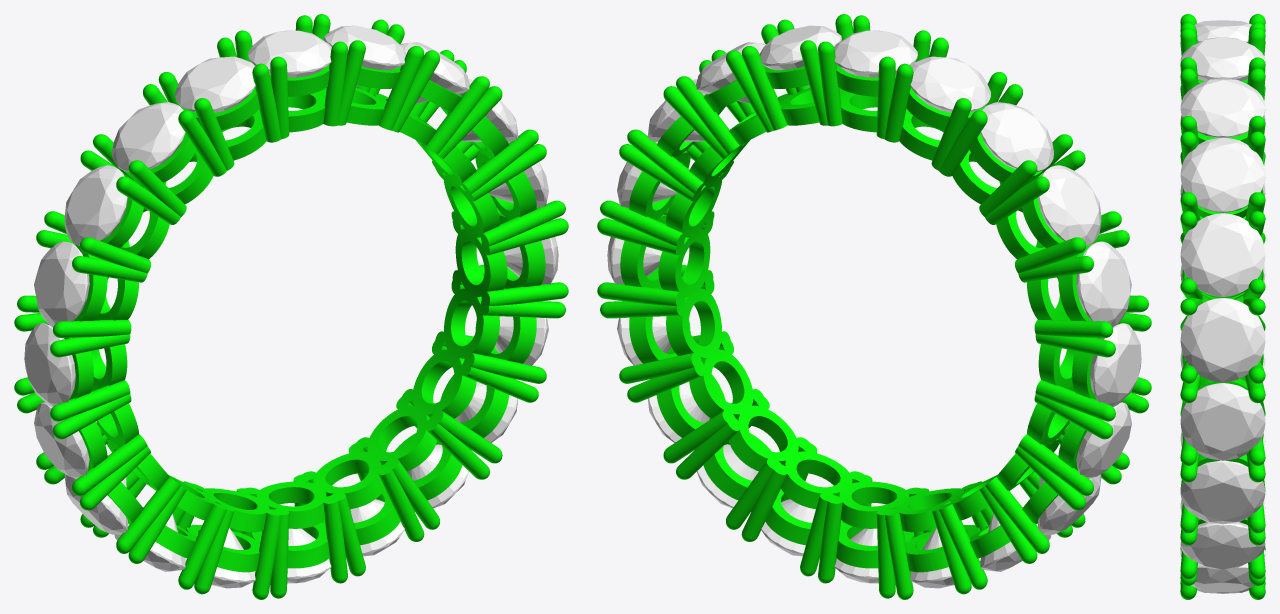
The model's file is eternity_3_1c01d76a29.glb.
The picture shows the model from 3 angles, left to right: view 1: azimuth 30°, elevation 25°; view 2: azimuth 150°, elevation 25°; view 3: azimuth 270°, elevation 25°; orthographic projection. The views are drawn at different scales.
Visible parts, largest first — view 1: ;SOLID, Brillant_1042, Brillant_1043, Brillant_1041, Brillant_1044, Brillant_1040, Brillant_1025, Brillant_1039, Brillant_1026, Brillant_1038, Brillant_1027, Brillant_1032 (+9 smaller); view 2: ;SOLID, Brillant_1042, Brillant_1043, Brillant_1041, Brillant_1044, Brillant_1040, Brillant_1025, Brillant_1039, Brillant_1026, Brillant_1038, Brillant_1027, Brillant_1032 (+9 smaller); view 3: ;SOLID, Brillant_1029, Brillant_1028, Brillant_1030, Brillant_1027, Brillant_1031, Brillant_1026, Brillant_1032, Brillant_1025, Brillant_1033, Brillant_1044.
Boxes of the visible parts, x1,y1,x2,y2 form: ;SOLID: (14, 14, 568, 599); Brillant_1042: (64, 165, 127, 245); Brillant_1043: (112, 102, 185, 171); Brillant_1041: (34, 241, 89, 326); Brillant_1044: (175, 56, 255, 112); Brillant_1040: (24, 323, 75, 406); Brillant_1025: (248, 30, 331, 77); Brillant_1039: (34, 402, 96, 478); Brillant_1026: (324, 25, 406, 87); Brillant_1038: (64, 474, 127, 534); Brillant_1027: (399, 42, 469, 103); Brillant_1032: (456, 381, 517, 442); ;SOLID: (597, 14, 1151, 599); Brillant_1042: (1038, 165, 1101, 245); Brillant_1043: (980, 102, 1053, 171); Brillant_1041: (1076, 241, 1131, 326); Brillant_1044: (910, 56, 990, 112); Brillant_1040: (1090, 323, 1141, 406); Brillant_1025: (834, 30, 917, 77); Brillant_1039: (1069, 402, 1131, 478); Brillant_1026: (759, 25, 841, 87); Brillant_1038: (1038, 474, 1101, 534); Brillant_1027: (696, 42, 766, 103); Brillant_1032: (648, 379, 709, 442); ;SOLID: (1180, 14, 1265, 599); Brillant_1029: (1180, 298, 1265, 382); Brillant_1028: (1180, 213, 1265, 296); Brillant_1030: (1180, 383, 1265, 460); Brillant_1027: (1180, 137, 1265, 212); Brillant_1031: (1180, 460, 1265, 524); Brillant_1026: (1180, 78, 1265, 137); Brillant_1032: (1180, 522, 1265, 569); Brillant_1025: (1180, 37, 1265, 80); Brillant_1033: (1191, 563, 1254, 592); Brillant_1044: (1194, 20, 1251, 42).
Bounding box in the file's own units: 2.81 × 2.81 × 0.4116.
